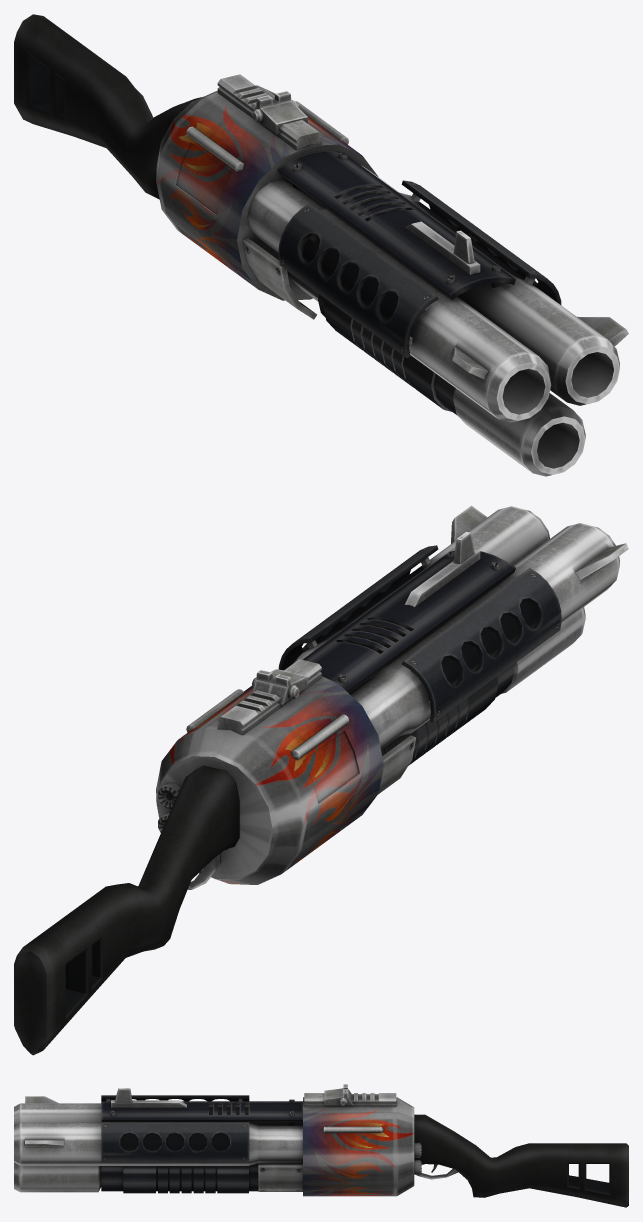
File: Oblivion Hammer.fbx
3 renders of one model, top to bottom at view 1: azimuth 30°, elevation 25°; view 2: azimuth 150°, elevation 25°; view 3: azimuth 270°, elevation 25°, orthographic. The views are drawn at different scales.
Parts seen in each view (by area): view 1: Oblivion_Hammer1; view 2: Oblivion_Hammer1; view 3: Oblivion_Hammer1.
Part boxes in pixels (x1,y1,x2,y2): Oblivion_Hammer1: (14, 14, 628, 476); Oblivion_Hammer1: (14, 505, 628, 1055); Oblivion_Hammer1: (14, 1084, 628, 1207).
Bounding box in the file's own units: 0.2055 × 0.2507 × 1.17.
